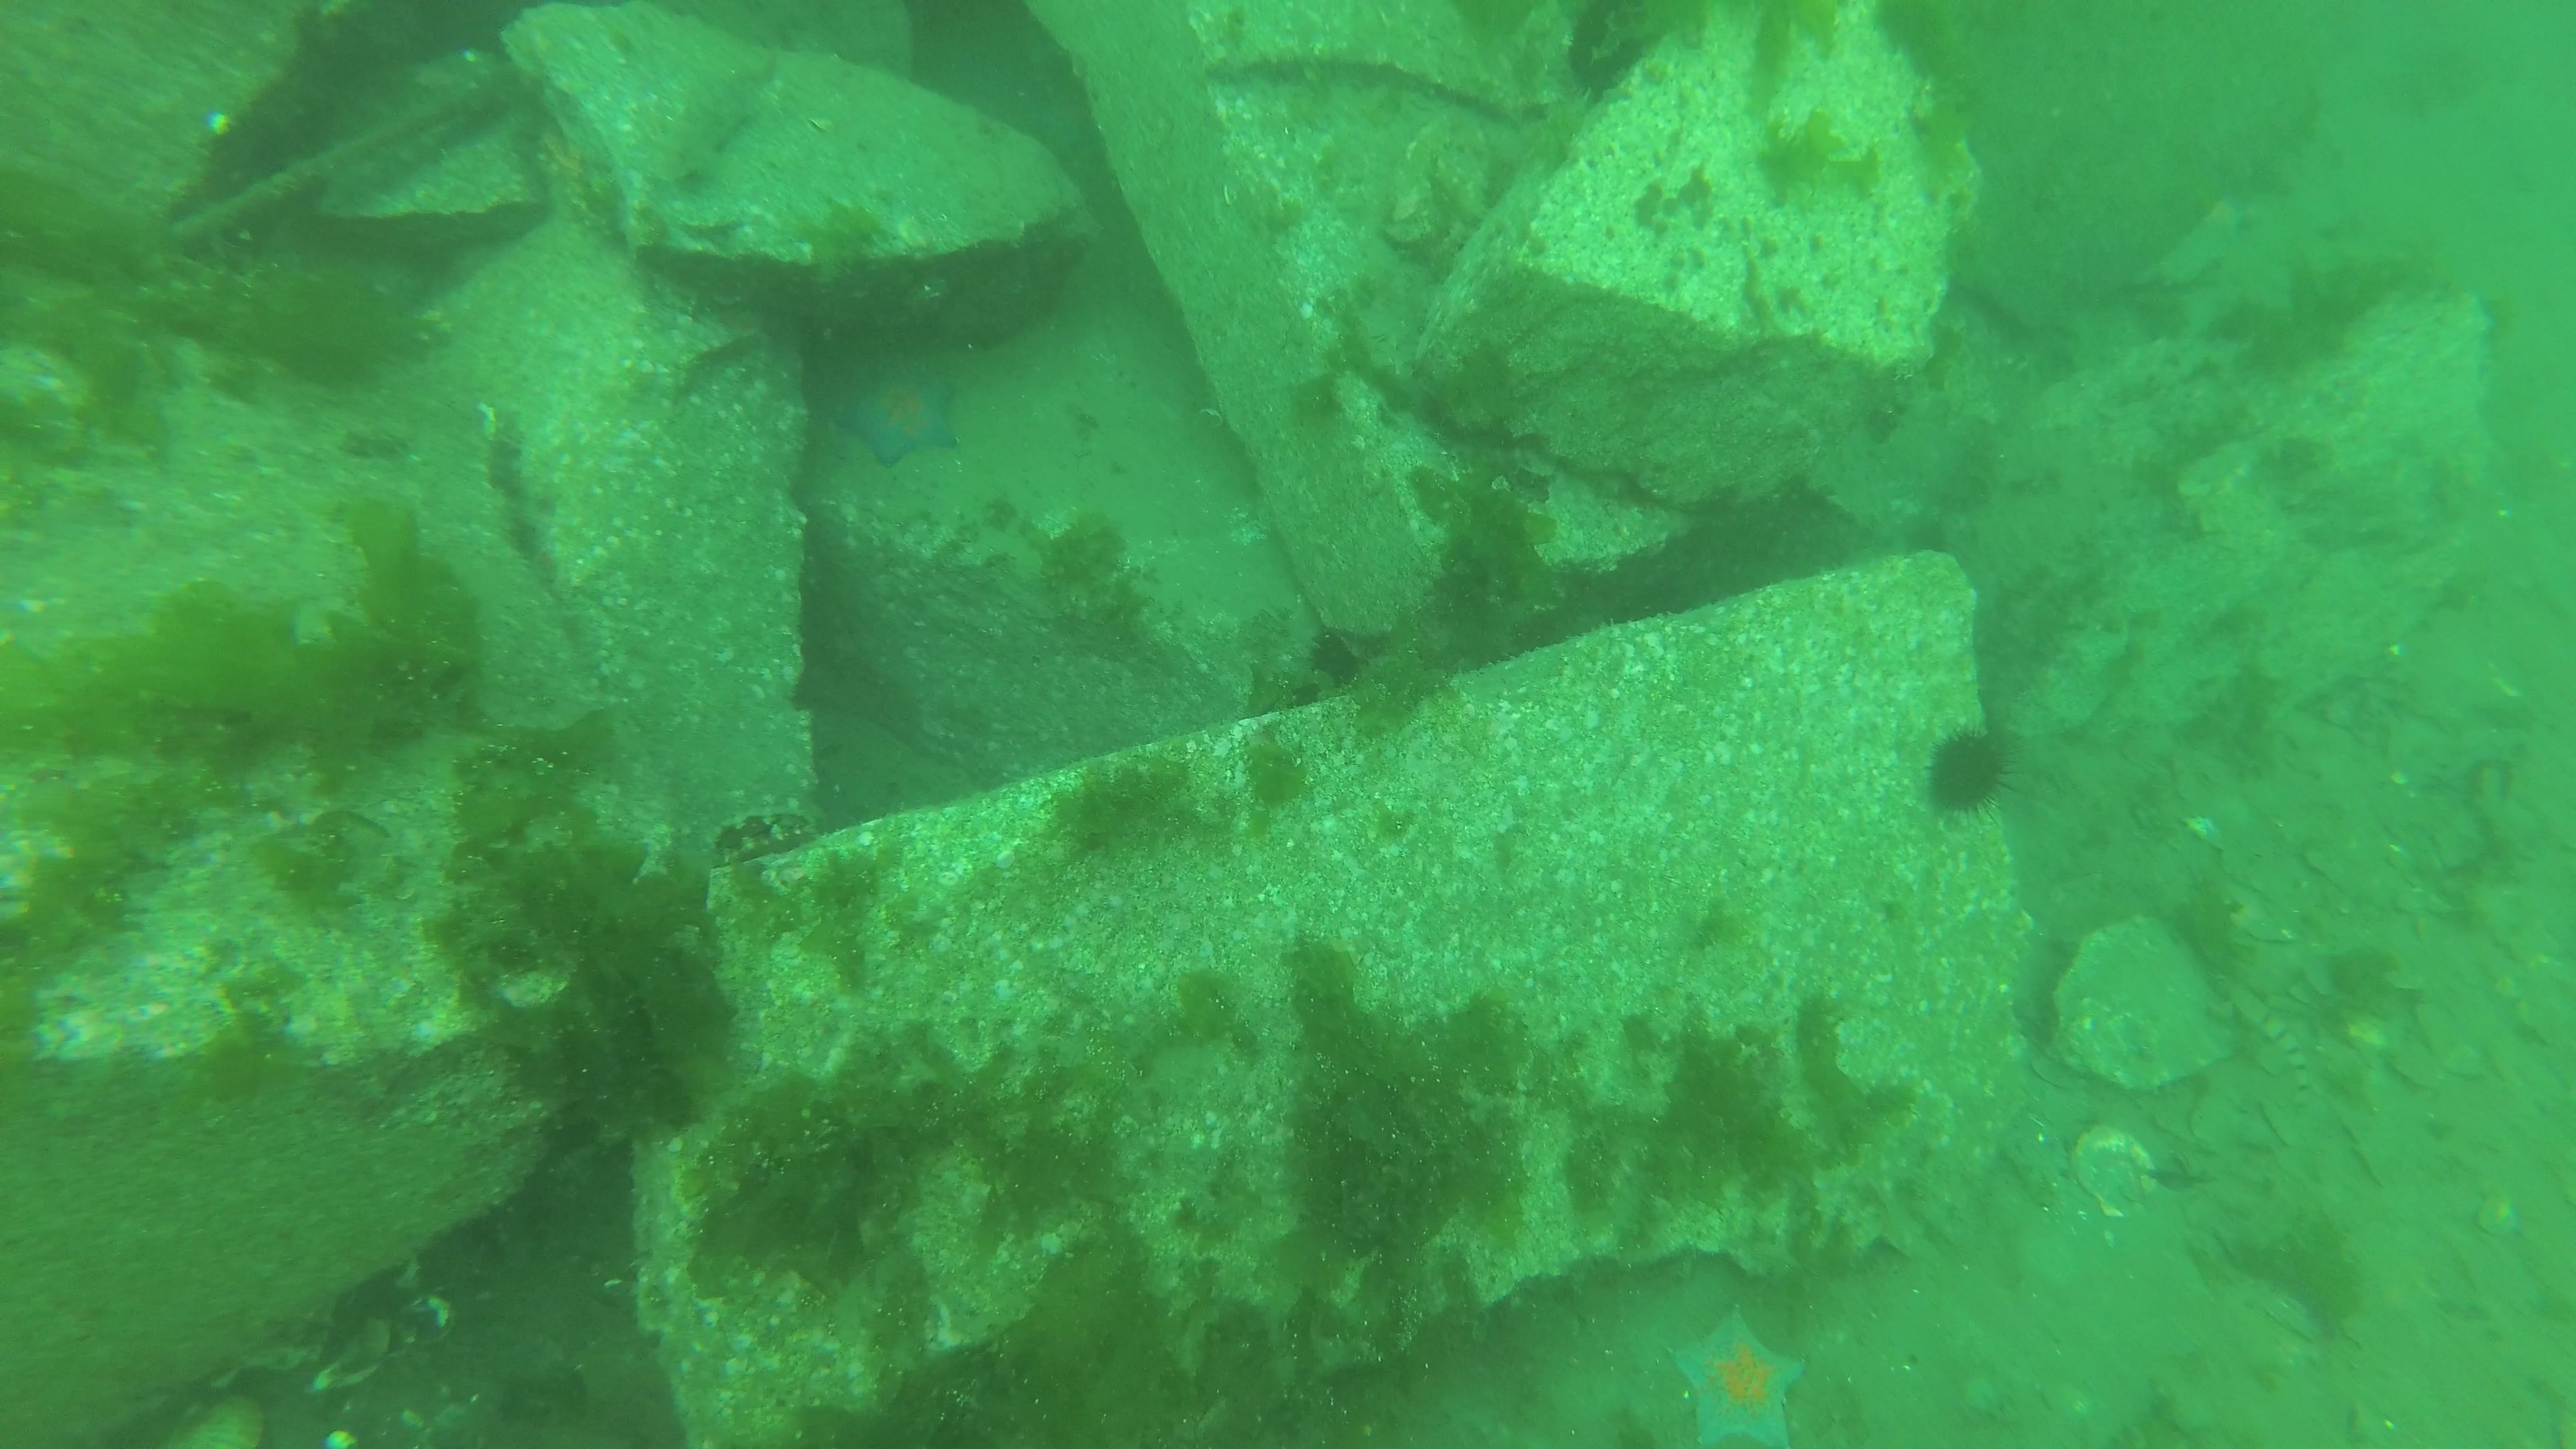echinus: (1925, 708, 2029, 826), (1564, 0, 1651, 104)
holothurian: (1430, 223, 1468, 271)
scallop: (2070, 1120, 2166, 1224)
starfish: (1668, 1299, 1806, 1449), (840, 361, 962, 469), (1030, 85, 1093, 147)
